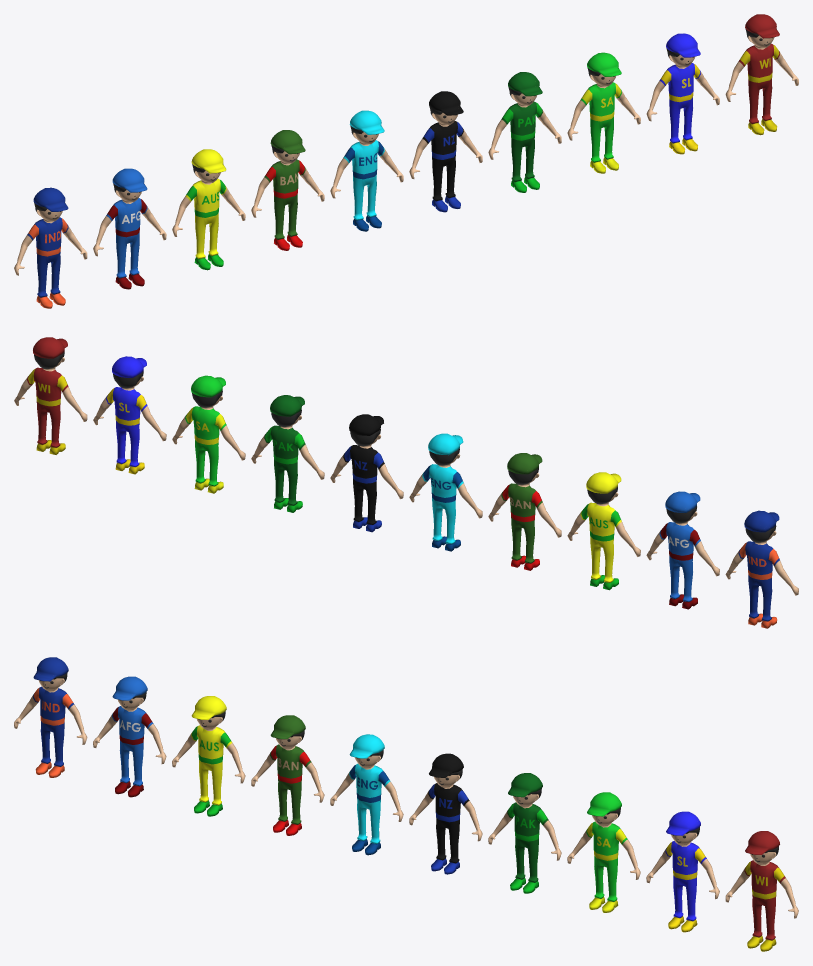
File: cricketers.glb
3 renders of one model, top to bottom at view 1: azimuth 30°, elevation 25°; view 2: azimuth 150°, elevation 25°; view 3: azimuth 330°, elevation 25°, orthographic.
Visible parts, largest first — view 1: Afghanistan, India, England, Australia, Bangladesh, Newzeland, Sri Lanka, South Africa, Pakistan, West Indies; view 2: Sri Lanka, West Indies, Pakistan, South Africa, England, Afghanistan, Newzeland, Bangladesh, India, Australia; view 3: Newzeland, Pakistan, West Indies, South Africa, England, Sri Lanka, Bangladesh, India, Afghanistan, Australia.
Boxes of the visible parts, x1,y1,x2,y2 form: Afghanistan: (93, 168, 166, 289); India: (14, 187, 87, 308); England: (330, 110, 403, 231); Australia: (172, 149, 245, 270); Bangladesh: (251, 130, 324, 250); Newzeland: (409, 91, 482, 212); Sri Lanka: (646, 33, 719, 154); South Africa: (567, 52, 640, 173); Pakistan: (488, 72, 561, 192); West Indies: (725, 14, 798, 135); Sri Lanka: (93, 356, 166, 474); West Indies: (14, 337, 87, 454); Pakistan: (251, 395, 324, 512); South Africa: (172, 375, 245, 493); England: (409, 433, 482, 551); Afghanistan: (646, 491, 719, 609); Newzeland: (330, 414, 403, 532); Bangladesh: (488, 453, 561, 570); India: (725, 510, 798, 628); Australia: (567, 472, 640, 590); Newzeland: (409, 753, 482, 874); Pakistan: (488, 773, 561, 893); West Indies: (725, 831, 798, 951); South Africa: (567, 792, 640, 912); England: (330, 734, 403, 855); Sri Lanka: (646, 811, 719, 932); Bangladesh: (251, 715, 324, 835); India: (14, 657, 87, 777); Afghanistan: (93, 676, 166, 797); Australia: (172, 696, 245, 816).
Size of the model in its own units: 4.33 by 0.5919 by 0.2086.
10 materials, 10 textured.
